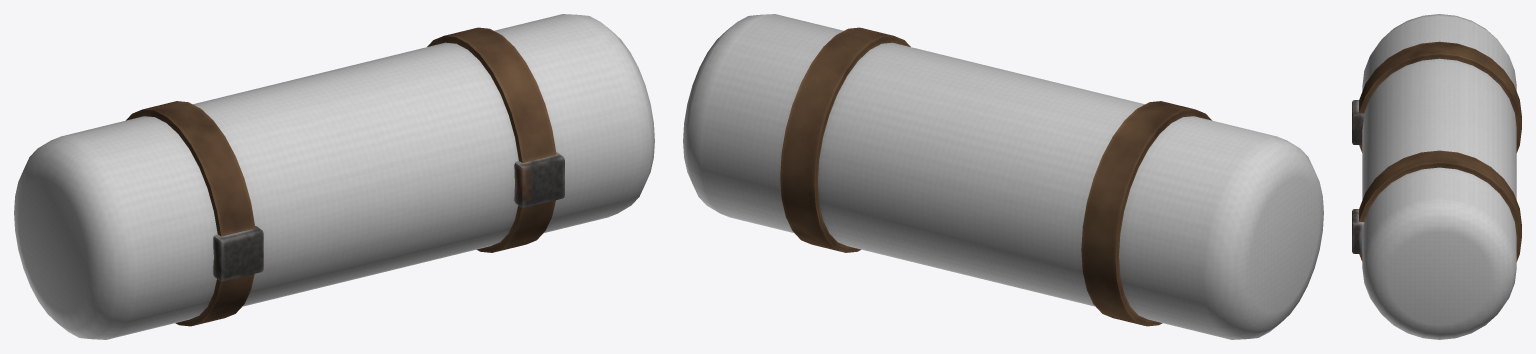
Rendered from bed_roll.glb.
3 views of the same model, side by side, from view 1: azimuth 30°, elevation 25°; view 2: azimuth 150°, elevation 25°; view 3: azimuth 270°, elevation 25° (orthographic). The views are drawn at different scales.
Visible parts, largest first — view 1: bed_roll; view 2: bed_roll; view 3: bed_roll.
Part boxes in pixels (x1,y1,x2,y2): bed_roll: (14, 14, 654, 339); bed_roll: (683, 14, 1323, 339); bed_roll: (1352, 14, 1521, 339).
Bounding box in the file's own units: 0.56 × 0.192 × 0.198.
2 materials, 2 textured.
